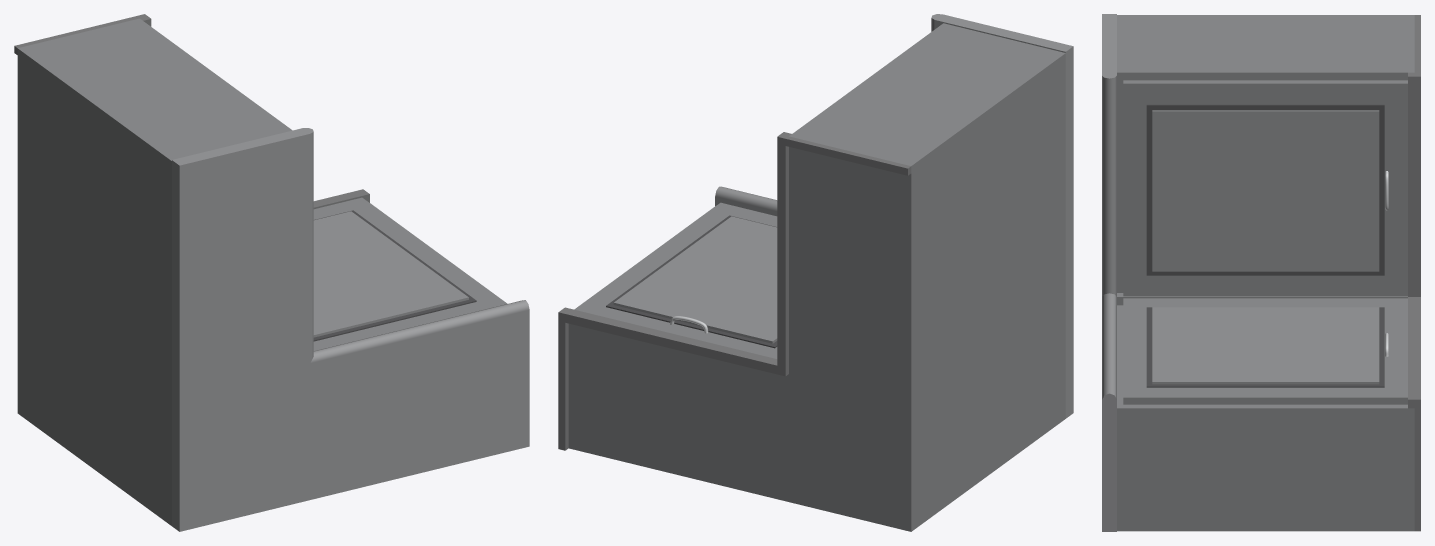
The picture shows the model from 3 angles, left to right: view 1: azimuth 30°, elevation 25°; view 2: azimuth 150°, elevation 25°; view 3: azimuth 270°, elevation 25°; orthographic projection. The views are drawn at different scales.
Size of the model in its own units: 0.917 by 0.917 by 0.75.
Materials: 1 (1 with a texture image).
